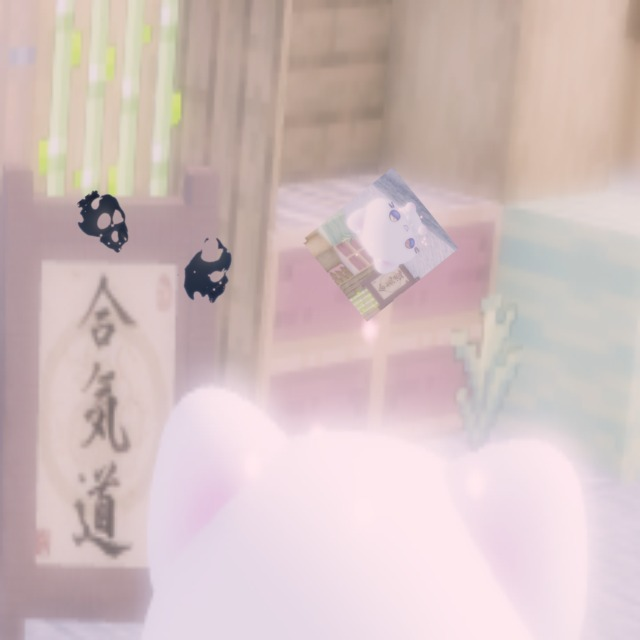urso_branco: (301, 167, 459, 322)
urso_preto: (161, 220, 255, 323), (63, 181, 148, 268)
